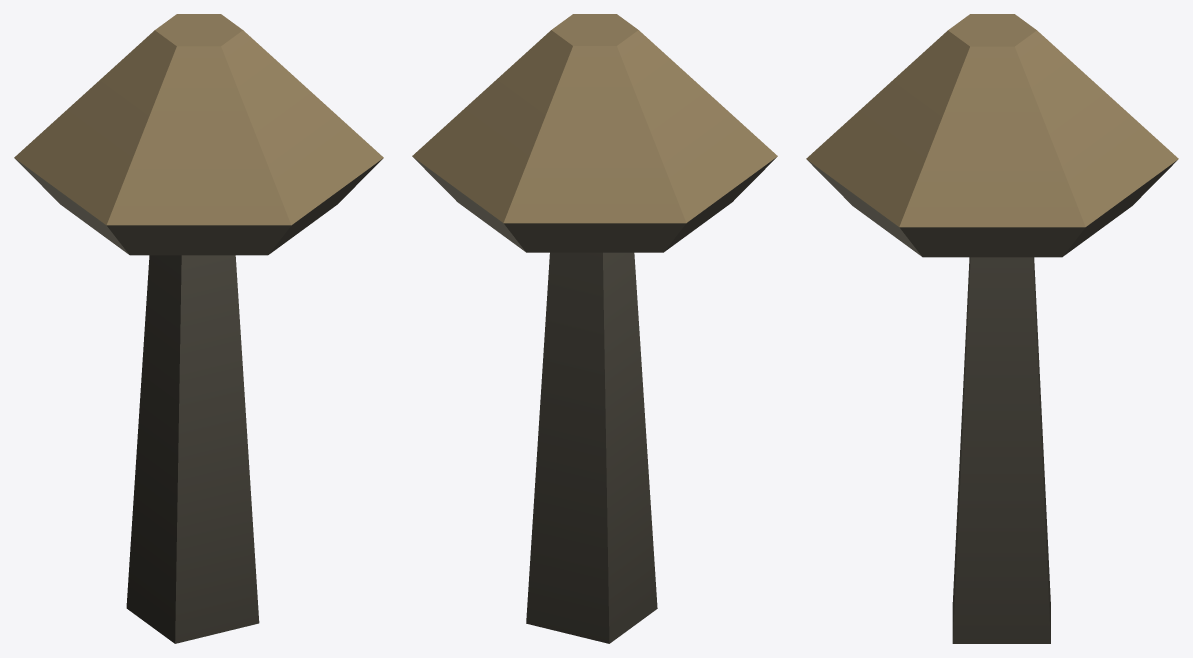
File: pilz_hell_hoch.glb
The picture shows the model from 3 angles, left to right: view 1: azimuth 30°, elevation 25°; view 2: azimuth 150°, elevation 25°; view 3: azimuth 270°, elevation 25°; orthographic projection.
Parts seen in each view (by area): view 1: pilz_hell_hoch; view 2: pilz_hell_hoch; view 3: pilz_hell_hoch.
Part boxes in pixels (x1,y1,x2,y2): pilz_hell_hoch: (14,14,383,643); pilz_hell_hoch: (412,14,777,643); pilz_hell_hoch: (806,14,1178,643).
Size of the model in its own units: 0.1183 by 0.24 by 0.1367.
